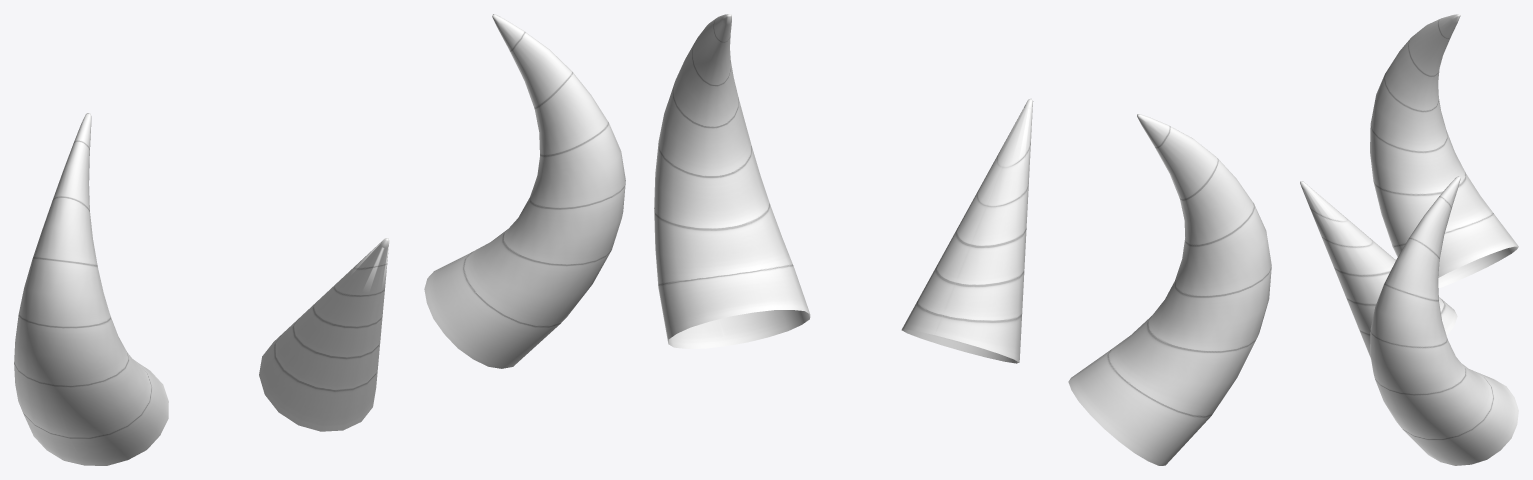
The model's file is Triplecorn.fbx.
3 renders of one model, left to right at view 1: azimuth 30°, elevation 25°; view 2: azimuth 150°, elevation 25°; view 3: azimuth 270°, elevation 25°, orthographic. The views are drawn at different scales.
Visible parts, largest first — view 1: Triplecorn; view 2: Triplecorn; view 3: Triplecorn.
Part boxes in pixels (x1,y1,x2,y2): Triplecorn: (14,14,625,465); Triplecorn: (654,14,1271,465); Triplecorn: (1300,14,1518,465).
Size of the model in its own units: 49.25 by 26.94 by 19.13.
